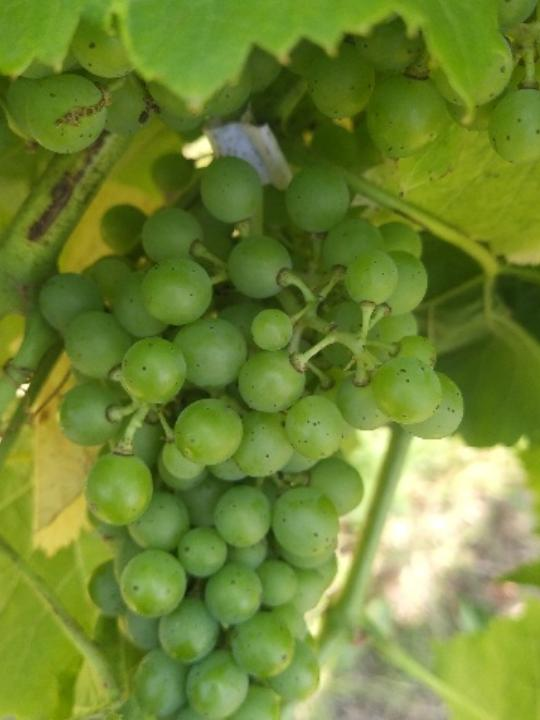grape: (41, 148, 470, 720)
